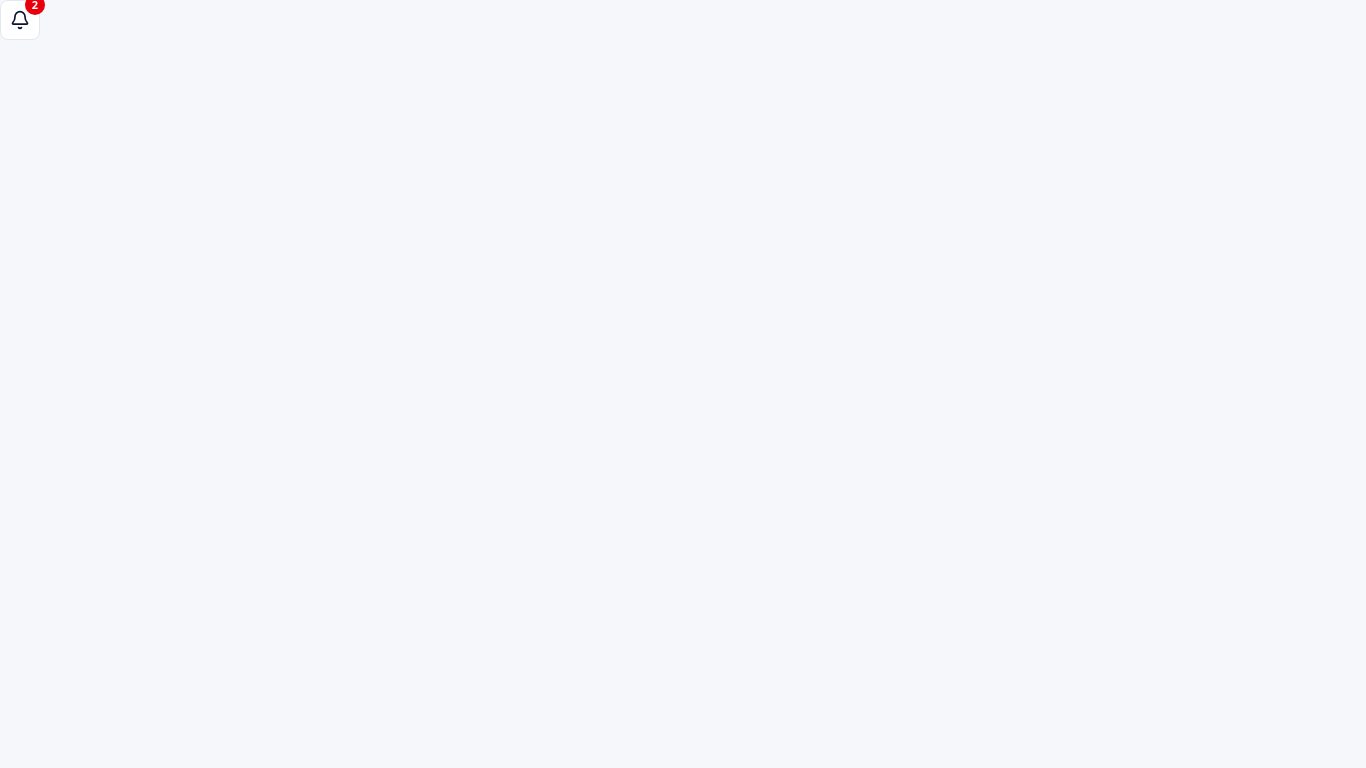
ControlBell › shows the count, and each row links to where it is dealt with
Click the button named "Notifications" at (20, 20), box top-left (0, 0), bottom-right (40, 40)
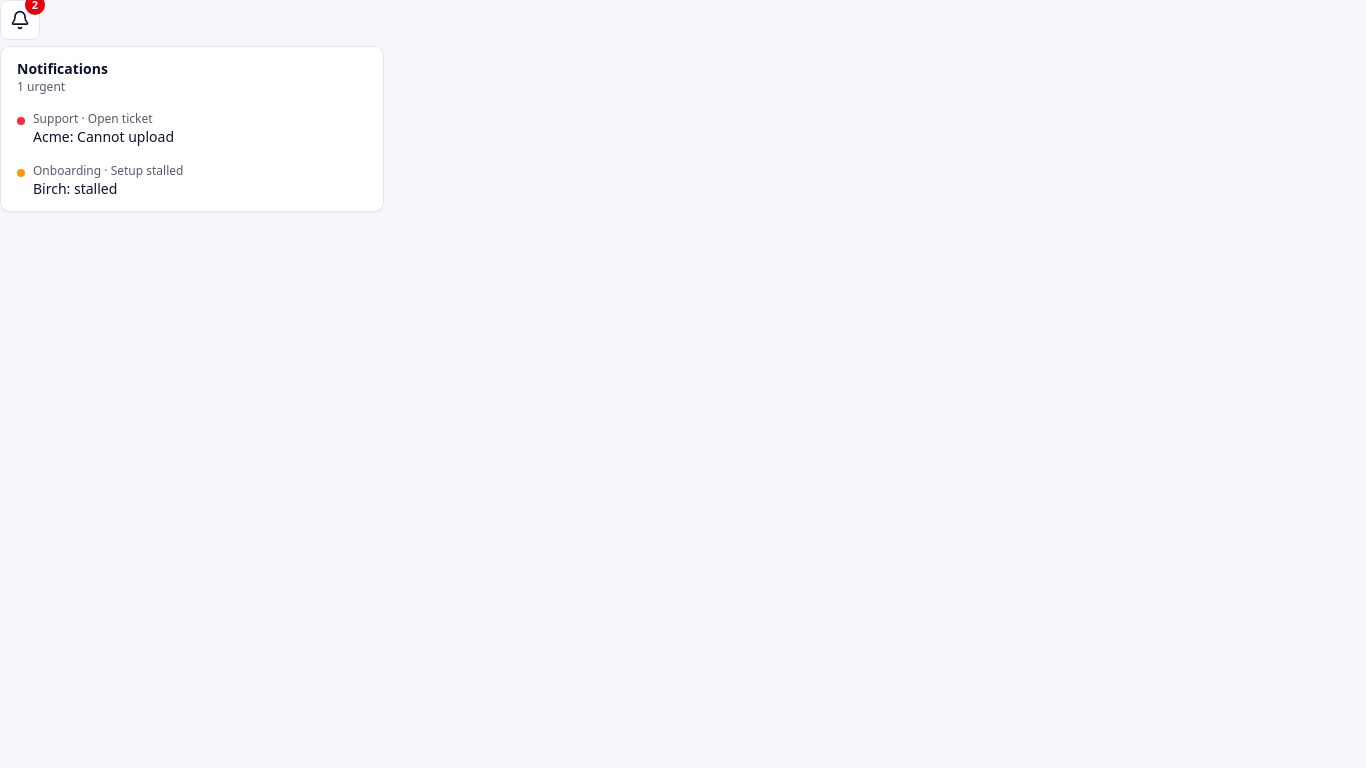
expect the text "1 urgent" is shown: met, box top-left (17, 78), bottom-right (65, 95)
